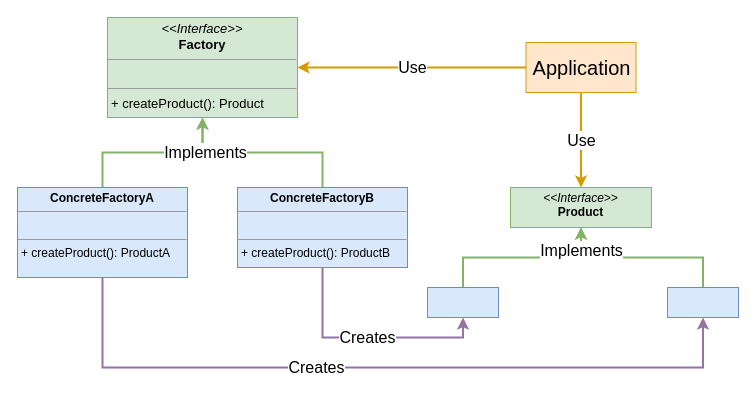
This 756x394 diagram has some shape labels left out. Here are the shapes that lost their labels. From the top down, the centre of each, then its label:
At pixel 462 302: "ProductB".
At pixel 702 302: "ProductA".
